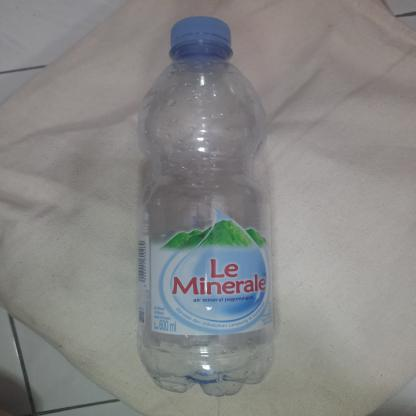bottle: (129, 13, 280, 400)
